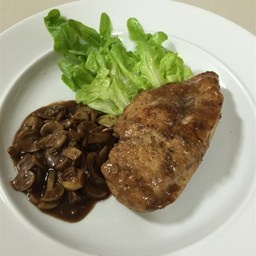background: (2, 3, 90, 85)
